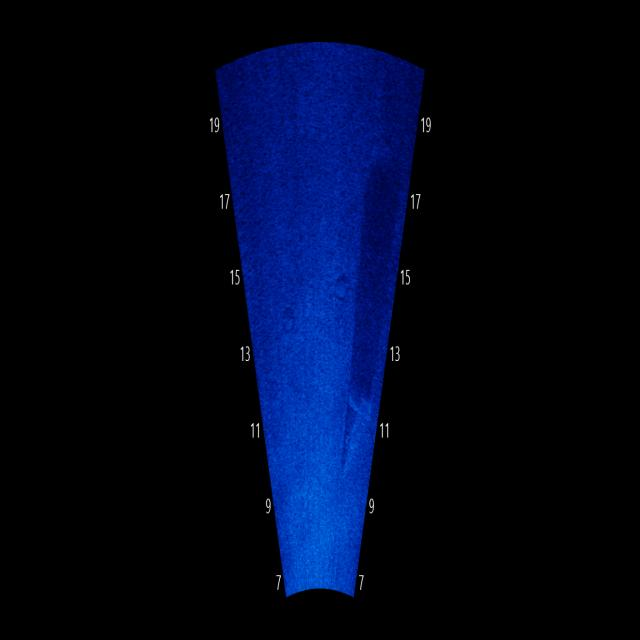circle: (329, 267, 352, 310), (278, 299, 299, 341)
triangle: (342, 373, 374, 478)
